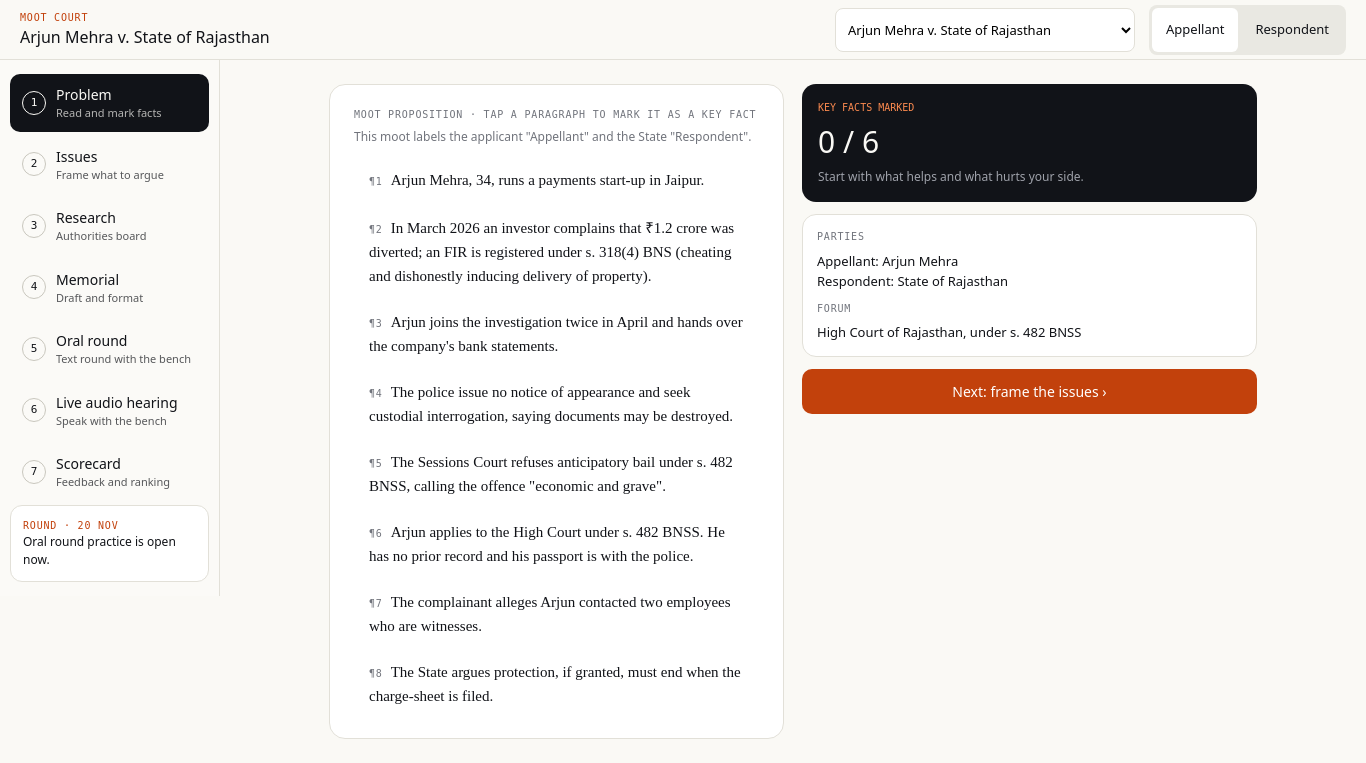
it: switch on › frames issues, research and memorial for the State, opposing anticipatory bail
Click the button "Respondent": (1292, 30) [1241, 8, 1343, 52]
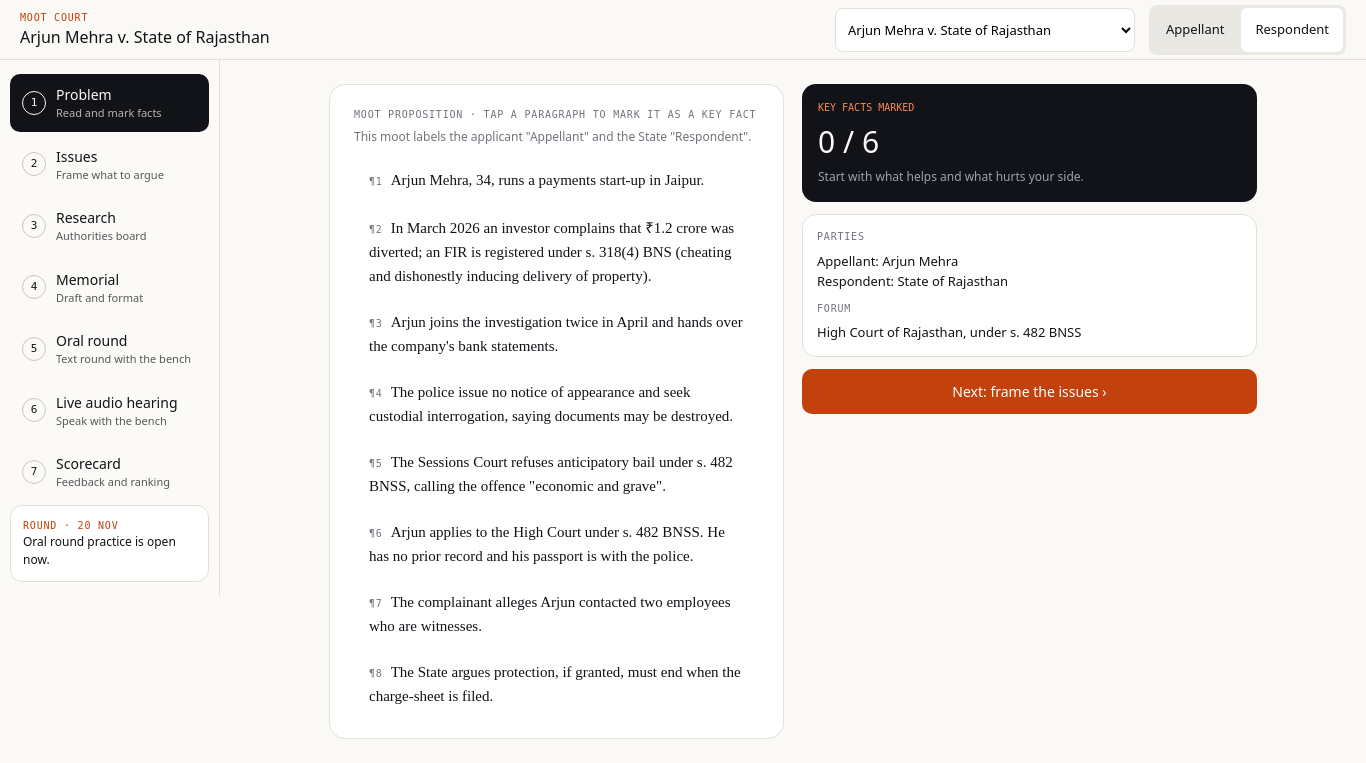
Click the button "2 Issues Frame what to argue": (110, 164) [10, 136, 209, 193]
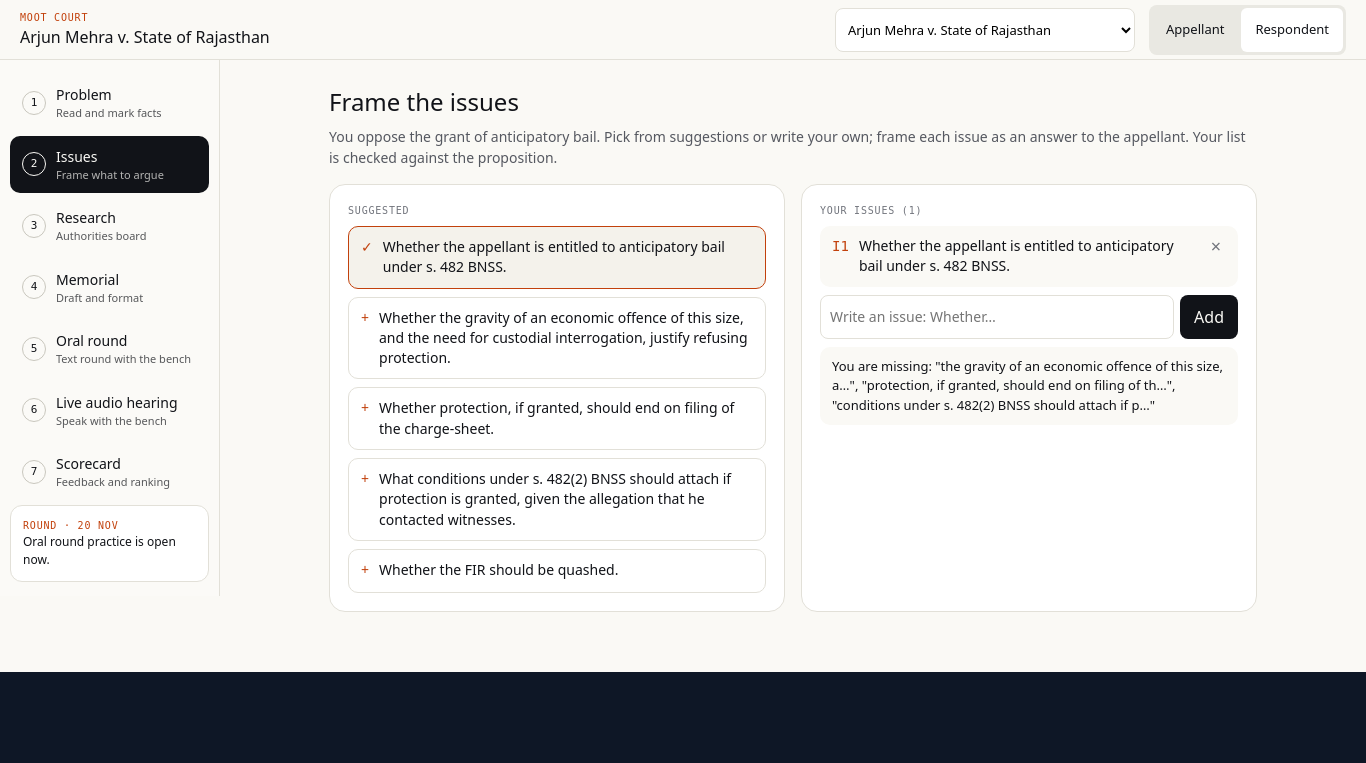
Now the text "You oppose the grant of anticipatory bail" is shown, box [329, 127, 1189, 146]
Now the button "Whether the gravity of an economic offence of this size, and the need for custodial interrogation, justify refusing prot" is shown, box [348, 297, 766, 380]
Now the button "Whether protection, if granted, should end on filing of the charge-sheet." is shown, box [348, 388, 766, 450]
Click the button "3 Research Authorities board": (110, 226) [10, 197, 209, 254]
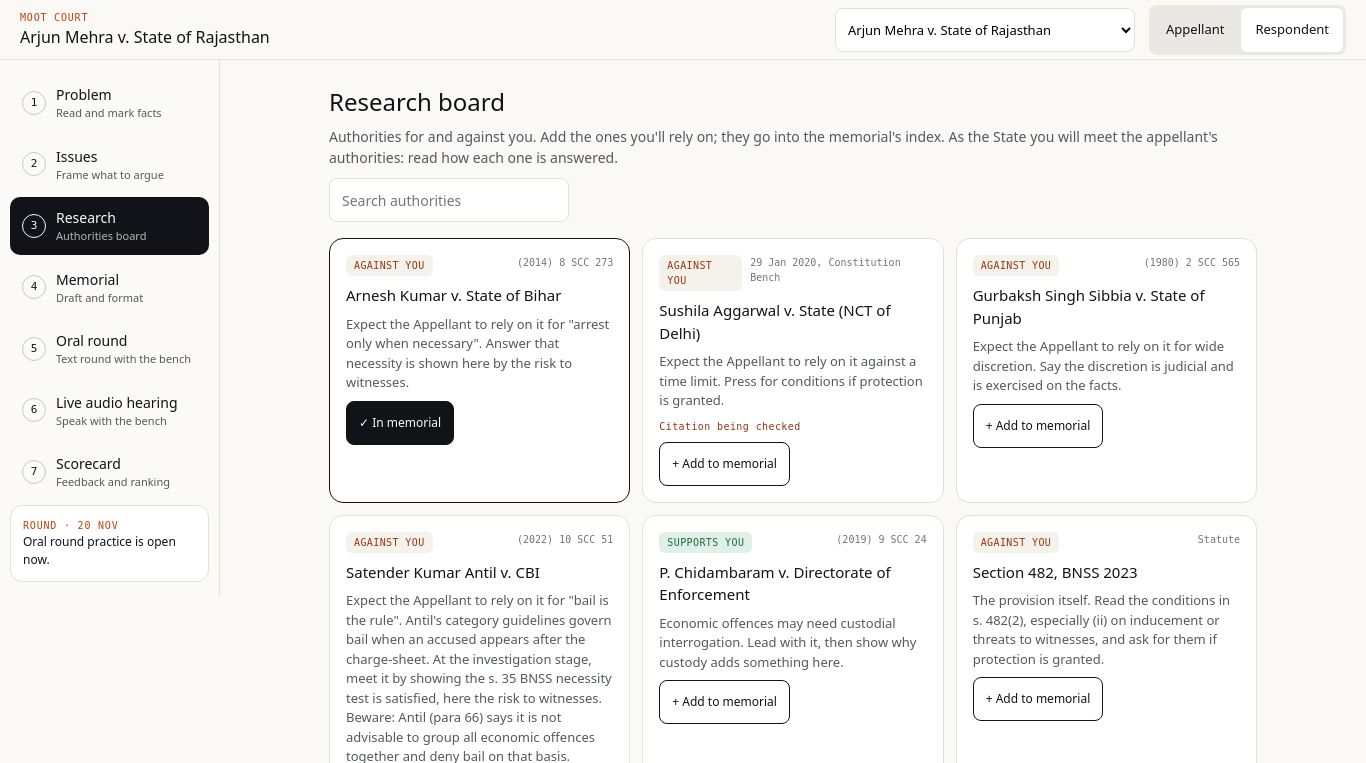
Now the text "As the State you will meet the appellant" is shown, box [329, 127, 1218, 167]
Click the button "4 Memorial Draft and format": (110, 287) [10, 258, 209, 316]
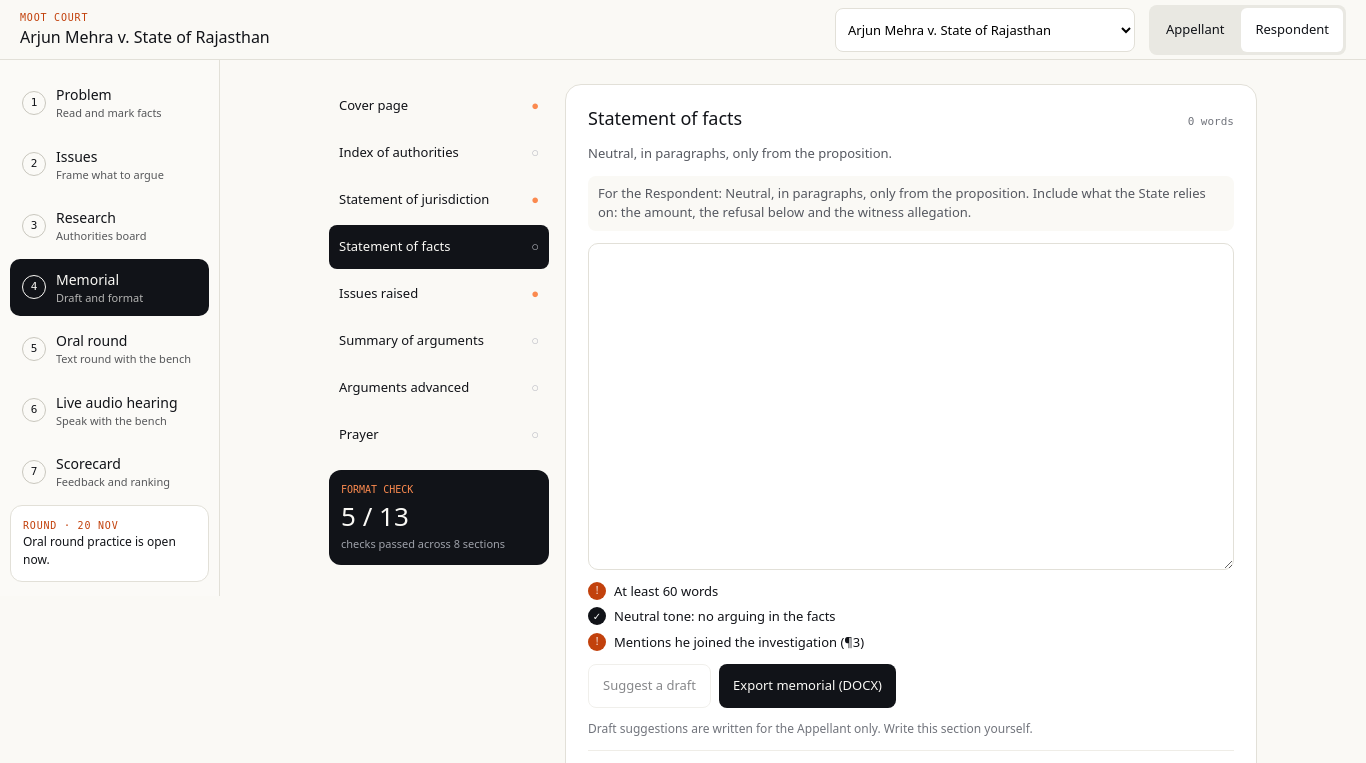
Now the text with test id "res-guide" shows "Neutral, in paragraphs, only from the proposition. Include what the State relies on: the amount, the refusal below and the witness allegation.", box [598, 184, 1206, 221]
Click the button "Arguments advanced ○": (439, 388) [329, 366, 549, 410]
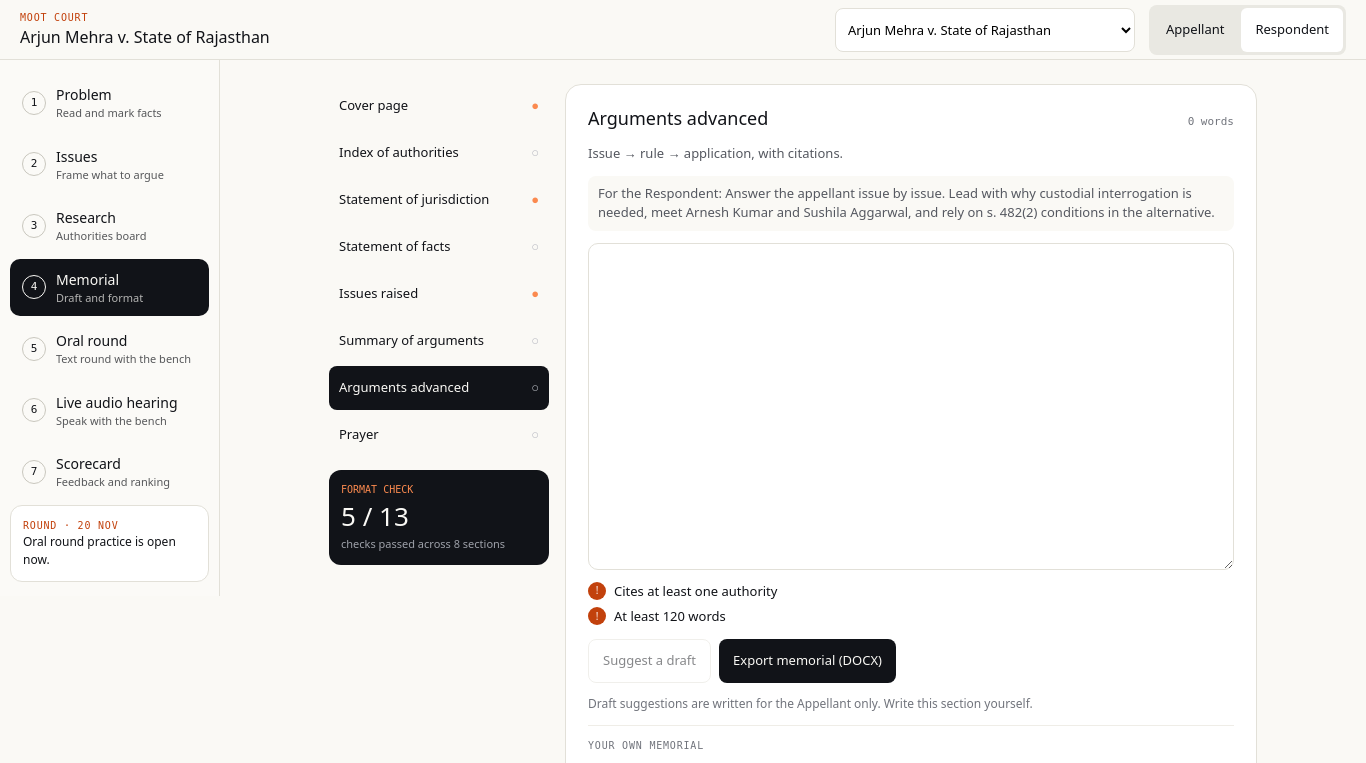
Now the text with test id "res-guide" shows "Answer the appellant issue by issue", box [598, 184, 1215, 221]
Click the button "Prayer ○": (439, 435) [329, 413, 549, 457]
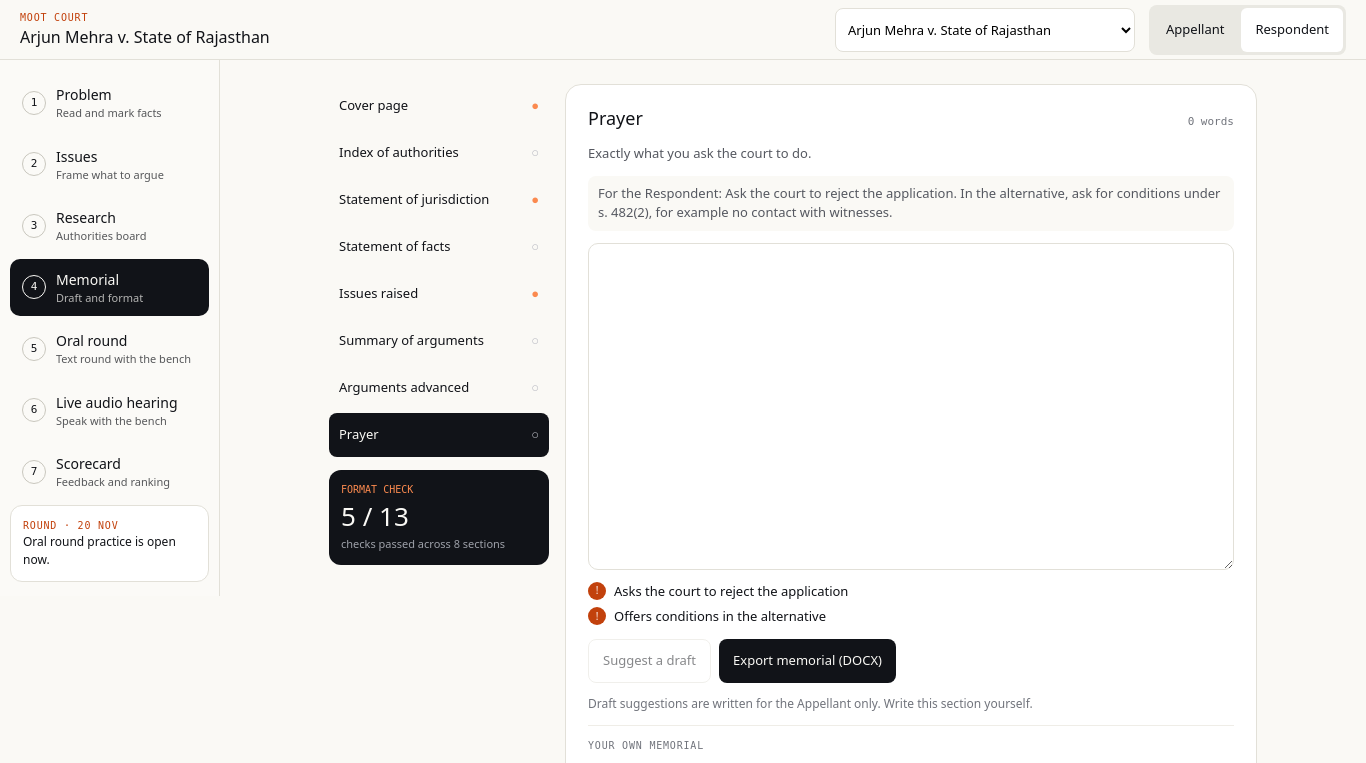
Now the text with test id "res-guide" shows "reject the application", box [598, 184, 1220, 221]
